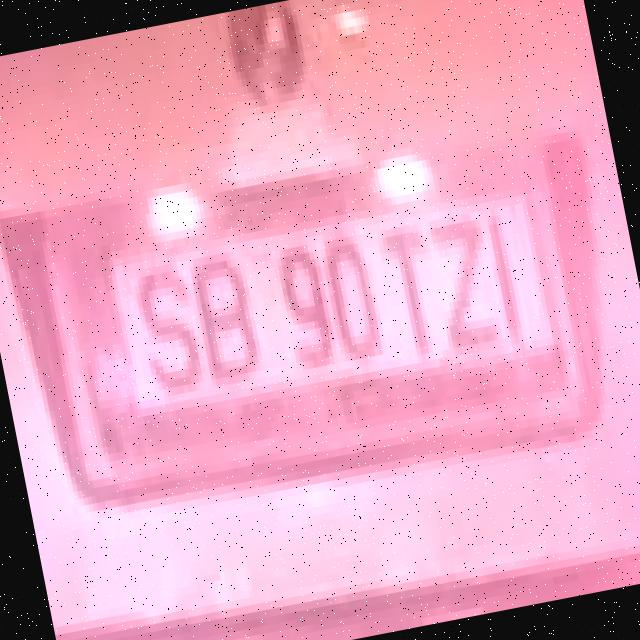Autre: (50, 160, 573, 487)
